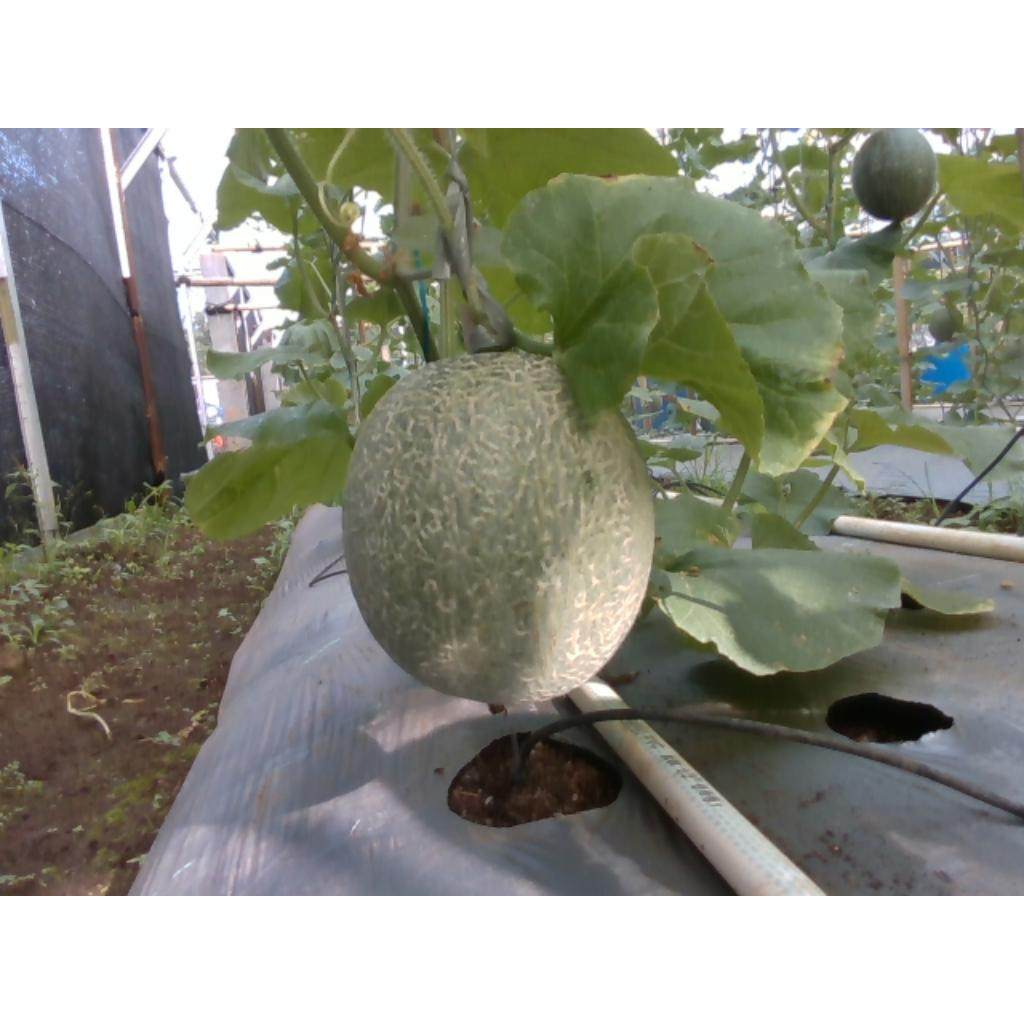melon: (344, 352, 654, 703)
